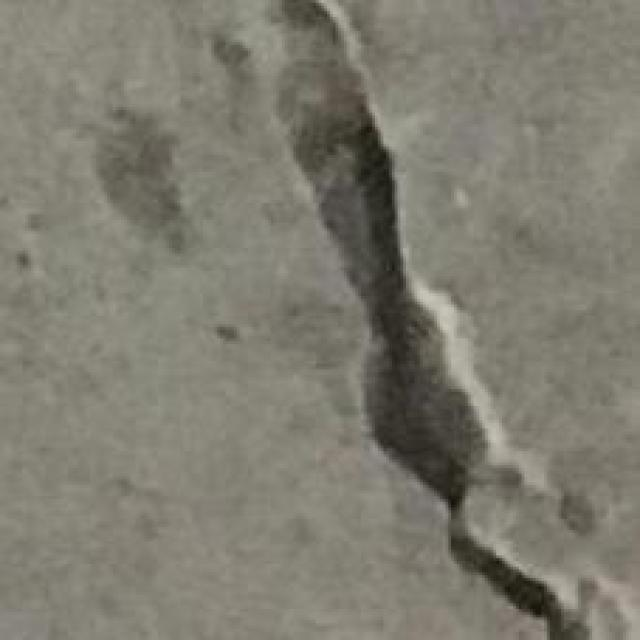Crack: (271, 0, 589, 637)
